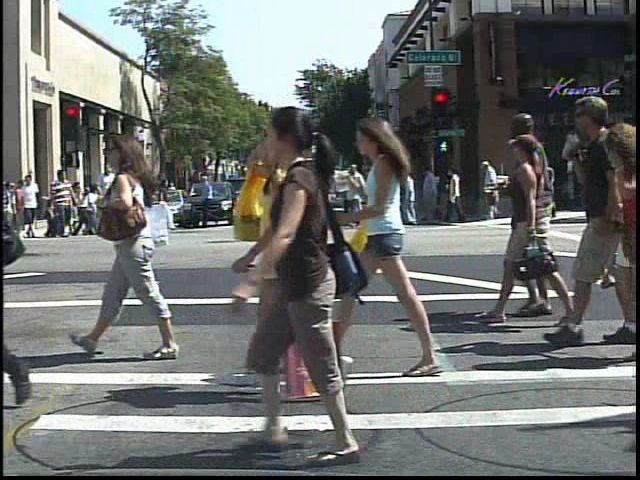person: (245, 105, 391, 470), (342, 109, 485, 385), (225, 115, 352, 397), (88, 122, 188, 365), (556, 79, 620, 351), (48, 164, 79, 242), (16, 170, 41, 242), (478, 156, 504, 224), (96, 160, 119, 200), (100, 178, 120, 220), (163, 175, 182, 211)
